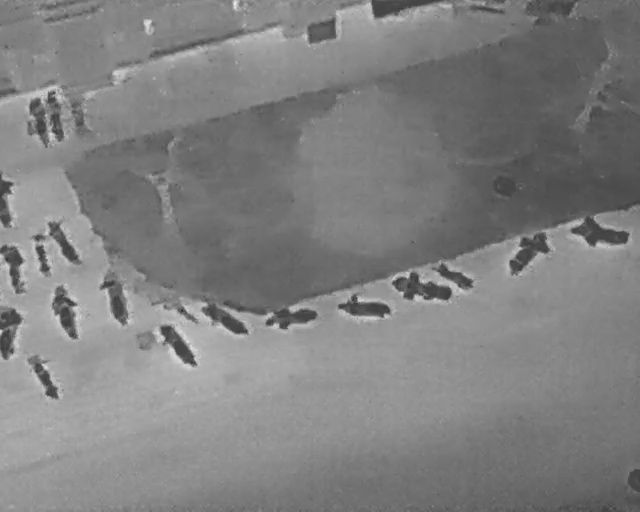Bicycle: (496, 221, 558, 285), (42, 276, 91, 346), (386, 264, 457, 312), (150, 317, 204, 376), (566, 209, 633, 255), (20, 344, 67, 405), (195, 295, 255, 342), (94, 263, 136, 330), (41, 213, 85, 270), (261, 298, 320, 334), (20, 94, 54, 153), (37, 85, 71, 144), (428, 254, 479, 293), (0, 240, 33, 296), (334, 292, 393, 321), (26, 229, 56, 280), (0, 303, 23, 360), (0, 173, 15, 230)
